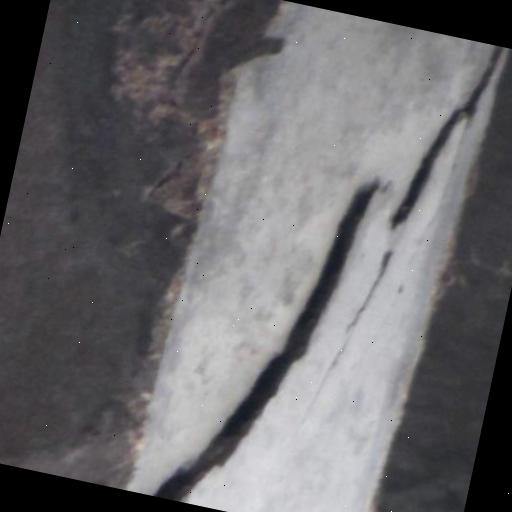spalling: (148, 45, 511, 500)
